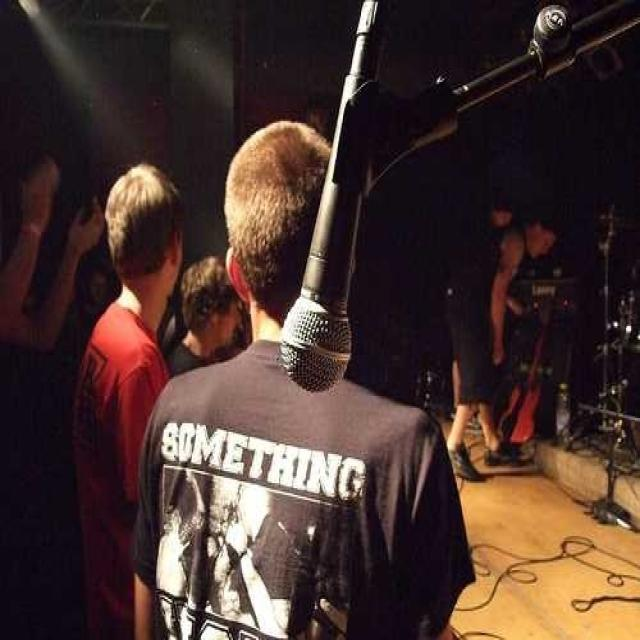microphone: (280, 6, 382, 392)
